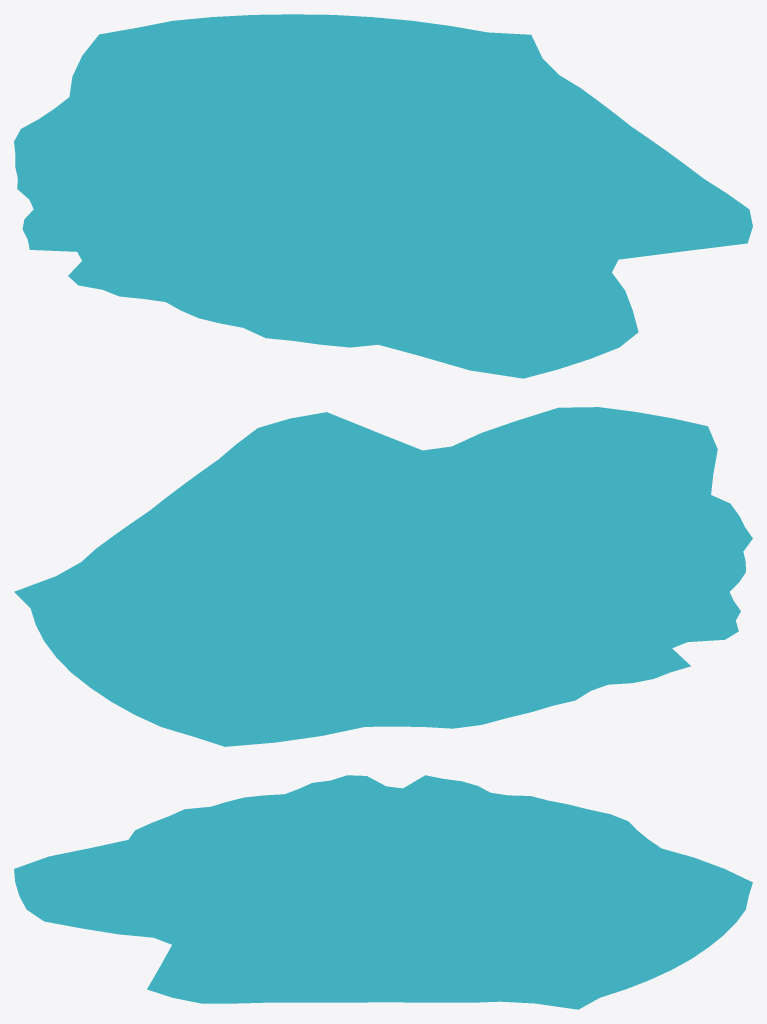
Rendered from PoolWater.glb.
3 views of the same model, one above another, from view 1: azimuth 30°, elevation 25°; view 2: azimuth 150°, elevation 25°; view 3: azimuth 270°, elevation 25° (orthographic). The views are drawn at different scales.
Visible parts, largest first — view 1: PoolWater__Water_Mid, PoolWater__Water_Light; view 2: PoolWater__Water_Mid, PoolWater__Water_Light; view 3: PoolWater__Water_Mid, PoolWater__Water_Light.
Part boxes in pixels (x1,y1,x2,y2): PoolWater__Water_Mid: (69, 53, 660, 344); PoolWater__Water_Light: (14, 14, 752, 378); PoolWater__Water_Mid: (108, 444, 698, 715); PoolWater__Water_Light: (14, 407, 752, 746); PoolWater__Water_Mid: (88, 794, 679, 981); PoolWater__Water_Light: (14, 775, 752, 1009).
Bounding box in the file's own units: 132 × 0 × 176.
